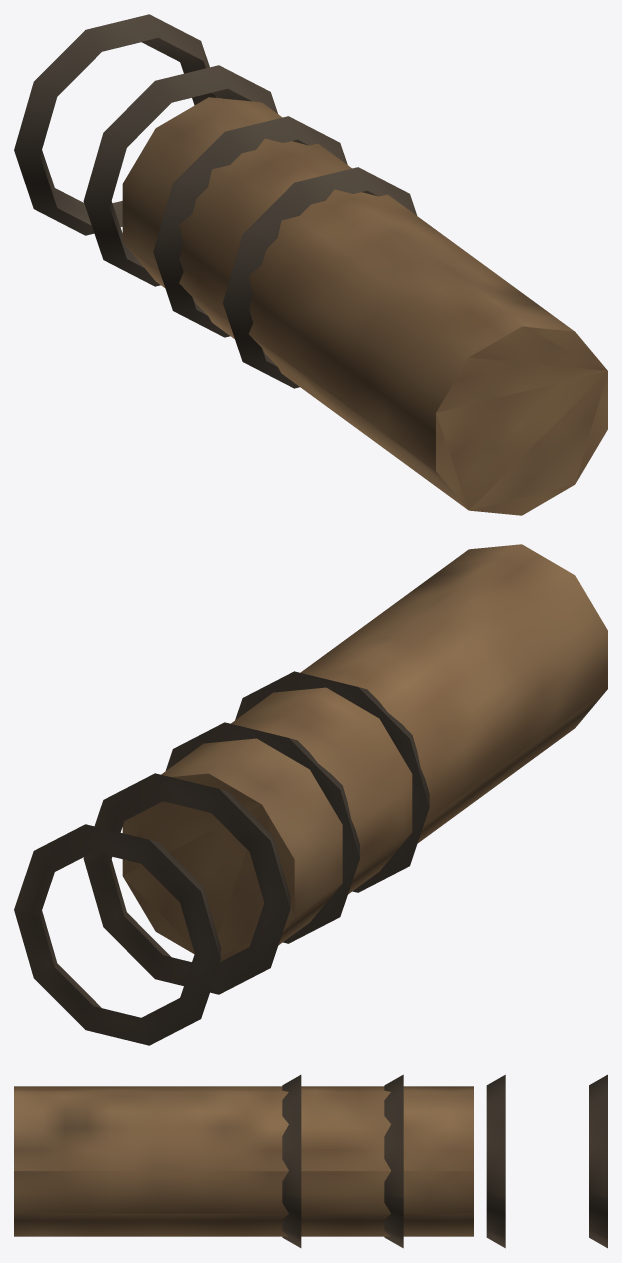
File: SM_Shotgun_Pump.fbx
The picture shows the model from 3 angles, top to bottom: view 1: azimuth 30°, elevation 25°; view 2: azimuth 150°, elevation 25°; view 3: azimuth 270°, elevation 25°; orthographic projection. The views are drawn at different scales.
Parts seen in each view (by area): view 1: SM_Shotgun_Pump; view 2: SM_Shotgun_Pump; view 3: SM_Shotgun_Pump.
Boxes of the visible parts, <box> form: SM_Shotgun_Pump: <box>14,14,607,515</box>; SM_Shotgun_Pump: <box>14,544,607,1045</box>; SM_Shotgun_Pump: <box>14,1074,607,1248</box>.
Size of the model in its own units: 0.3433 by 0.3265 by 1.16.
Materials: 1 (1 with a texture image).
